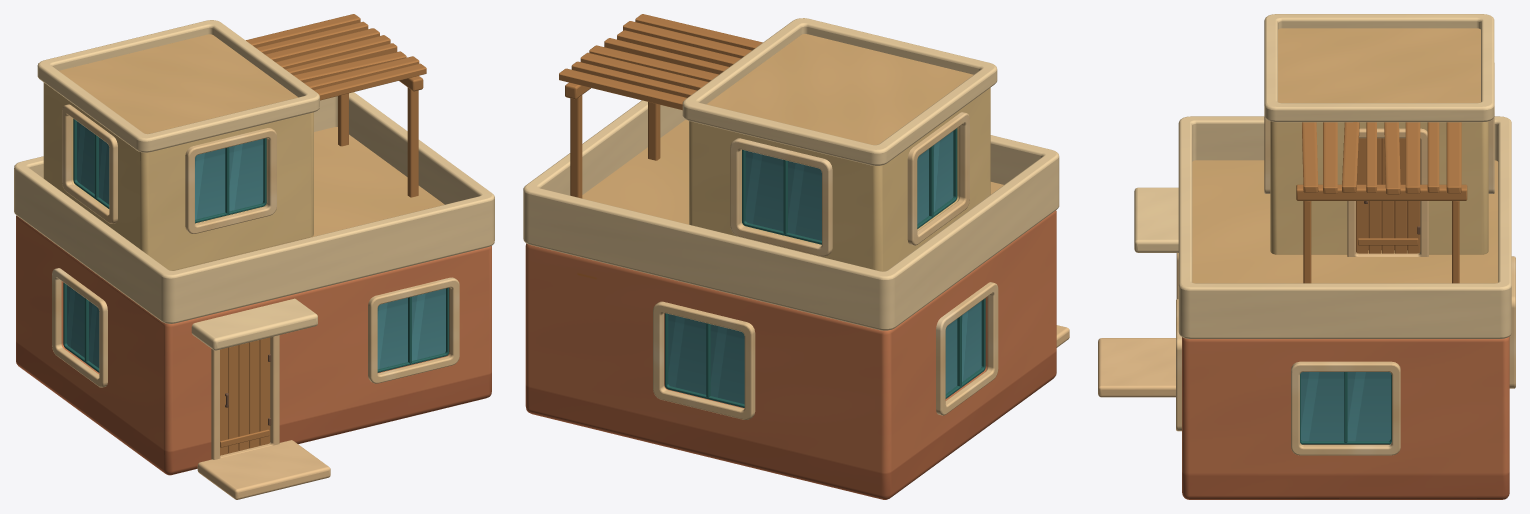
File: SparkBound_House_03.fbx
3 views of the same model, side by side, from view 1: azimuth 30°, elevation 25°; view 2: azimuth 150°, elevation 25°; view 3: azimuth 270°, elevation 25° (orthographic). The views are drawn at different scales.
Parts seen in each view (by area): view 1: SparkBound_House_03_Geometry; view 2: SparkBound_House_03_Geometry; view 3: SparkBound_House_03_Geometry.
Boxes of the visible parts, left/top/right/bottom form: SparkBound_House_03_Geometry: left=14, top=14, right=494, bottom=499; SparkBound_House_03_Geometry: left=523, top=14, right=1069, bottom=499; SparkBound_House_03_Geometry: left=1098, top=14, right=1515, bottom=499.
Bounding box in the file's own units: 7.21 × 6.28 × 7.26.
